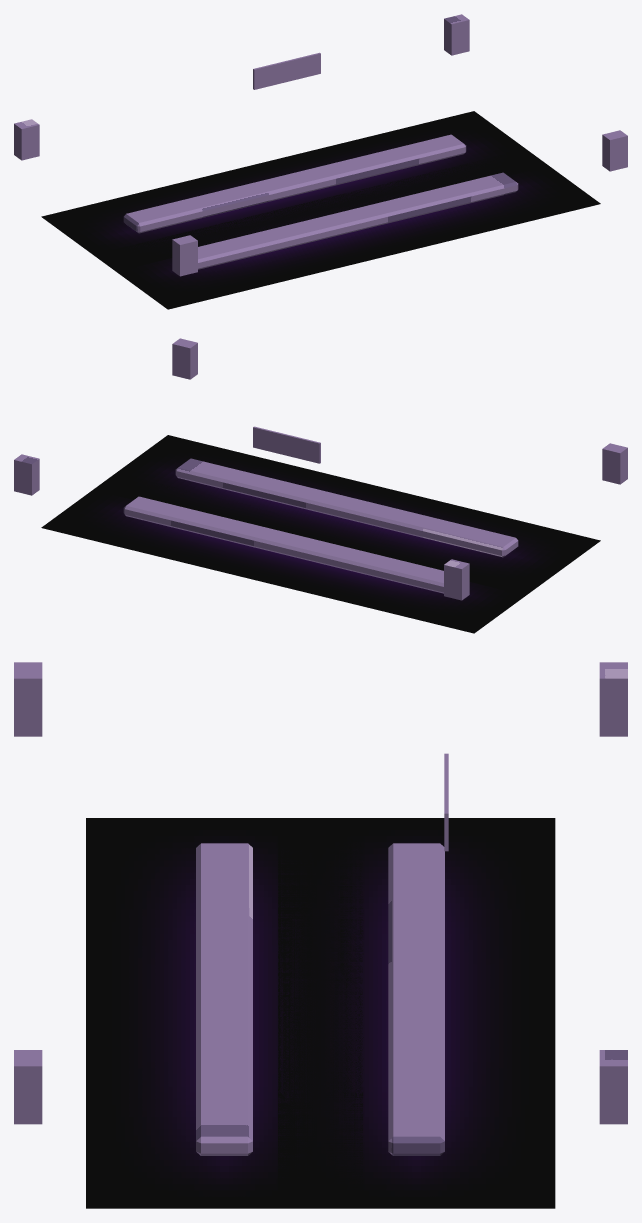
Rendered from tent_2_emission.obj.
3 views of the same model, one above another, from view 1: azimuth 30°, elevation 25°; view 2: azimuth 150°, elevation 25°; view 3: azimuth 270°, elevation 25° (orthographic). The views are drawn at different scales.
Parts seen in each view (by area): view 1: model; view 2: model; view 3: model.
Part boxes in pixels (left/top/right/bottom): model: left=14, top=14, right=627, bottom=309; model: left=14, top=338, right=627, bottom=633; model: left=14, top=662, right=627, bottom=1208.
Bounding box in the file's own units: 0.84 × 0.2225 × 0.5394.
